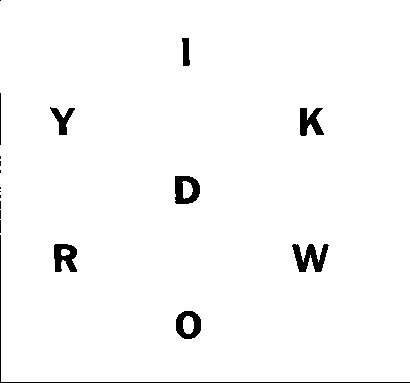I: (176, 31, 197, 73)
